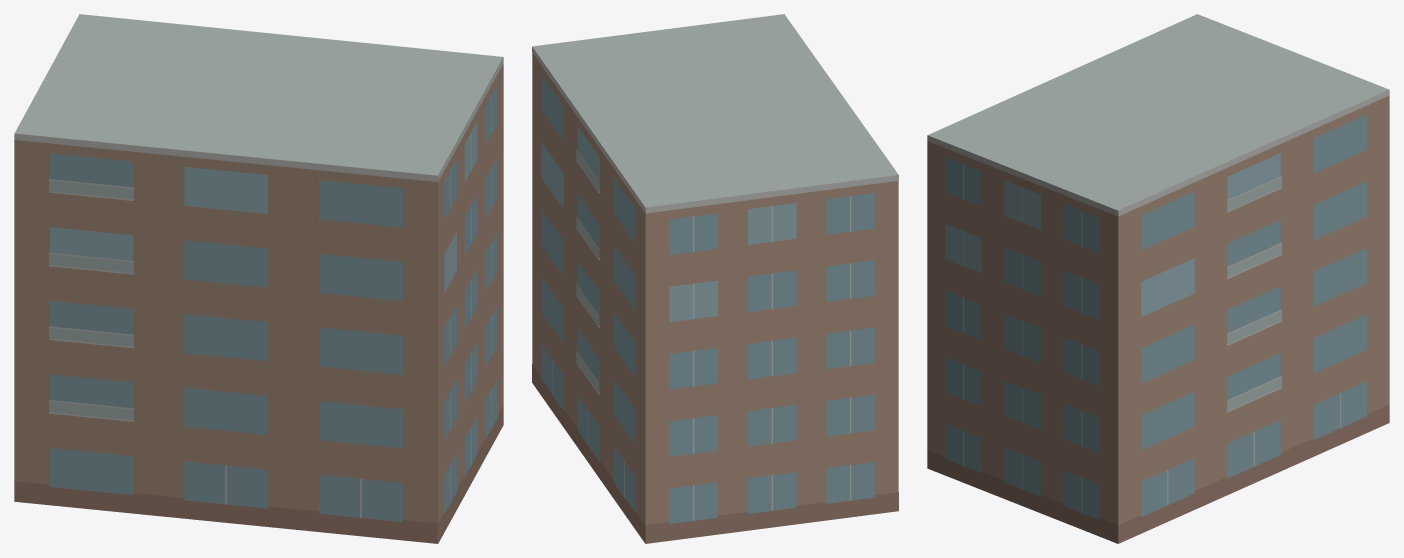
The model's file is survey-upis-32883415.glb.
3 renders of one model, left to right at view 1: azimuth 30°, elevation 25°; view 2: azimuth 150°, elevation 25°; view 3: azimuth 270°, elevation 25°, orthographic. The views are drawn at different scales.
Visible parts, largest first — view 1: survey-upis-32883415.tmp; view 2: survey-upis-32883415.tmp; view 3: survey-upis-32883415.tmp.
Boxes of the visible parts, <box> form: survey-upis-32883415.tmp: <box>14,14,503,543</box>; survey-upis-32883415.tmp: <box>532,14,898,543</box>; survey-upis-32883415.tmp: <box>927,14,1389,543</box>.
Bounding box in the file's own units: 17.73 × 14 × 17.6.
